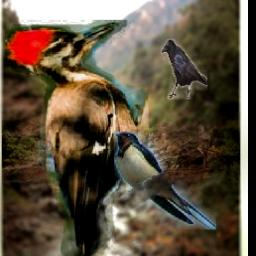Crow: (162, 40, 208, 100)
Swallow: (115, 132, 217, 231)
Woodpecker: (5, 21, 152, 256)
